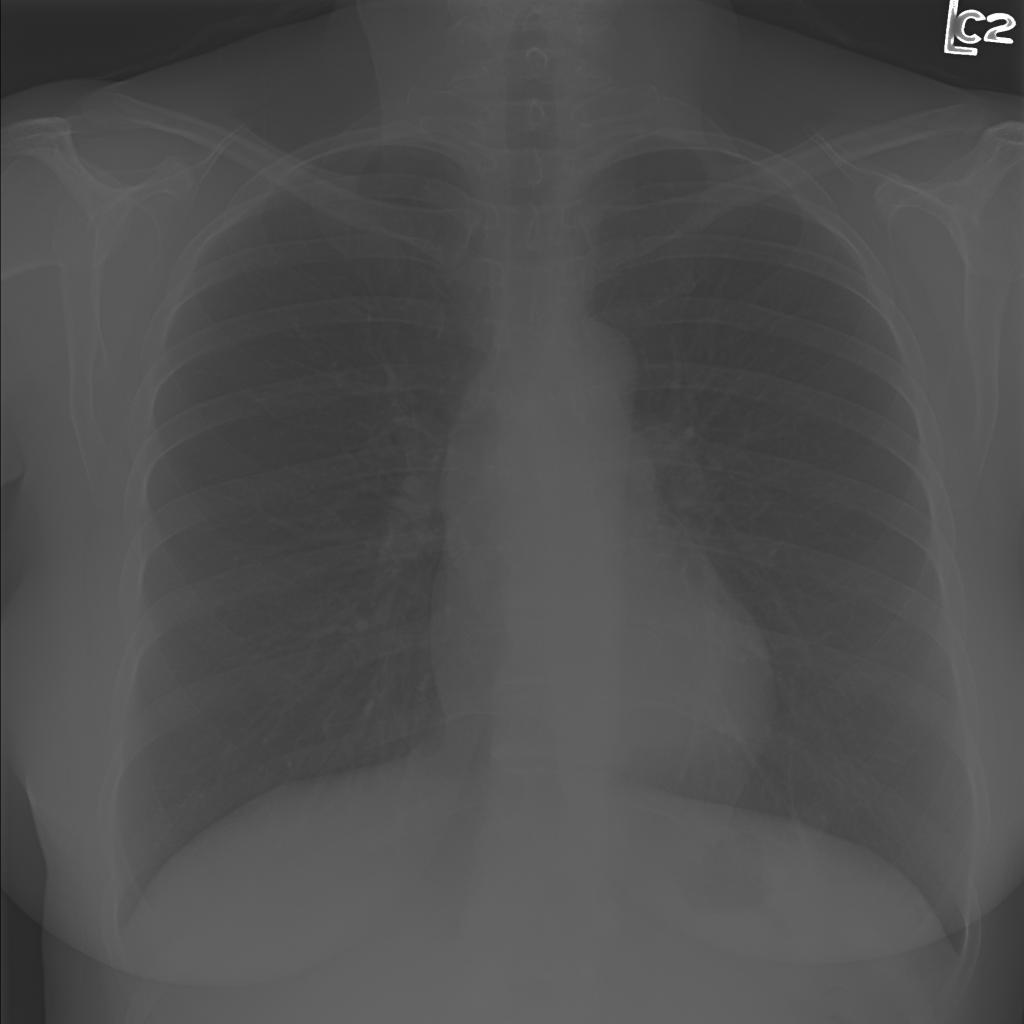Nodule: (456, 407, 495, 434)
